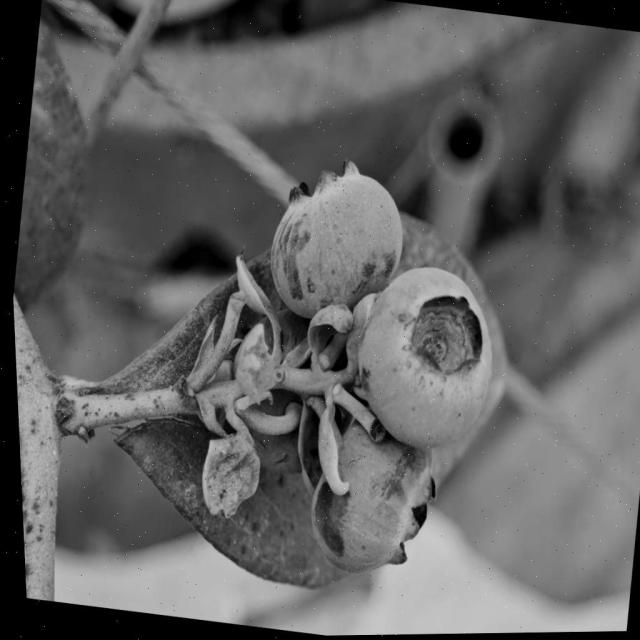RipeBlueBerry: (248, 135, 422, 357), (334, 256, 525, 444), (301, 420, 454, 594)
